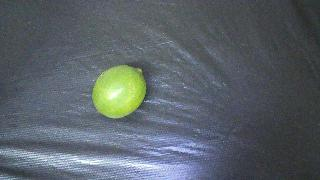LOCAL: (92, 65, 146, 118)
